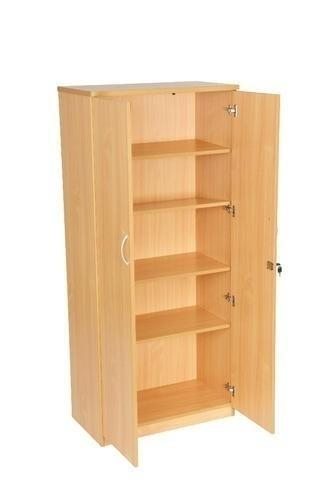cabinet_door: (230, 100, 274, 427), (100, 102, 132, 455)
handle: (120, 234, 129, 269), (272, 262, 284, 279)
